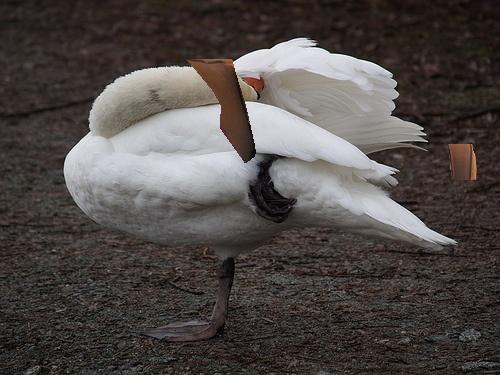tampered: (187, 60, 477, 180)
